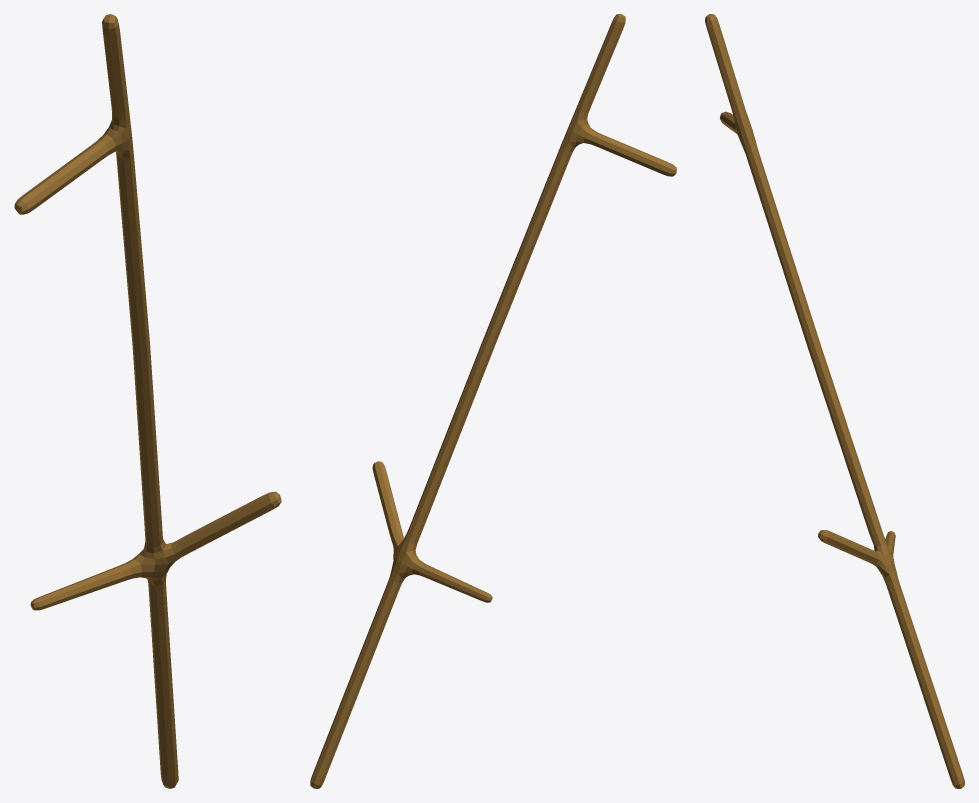
The model's file is Stick4.fbx.
3 renders of one model, left to right at view 1: azimuth 30°, elevation 25°; view 2: azimuth 150°, elevation 25°; view 3: azimuth 270°, elevation 25°, orthographic. The views are drawn at different scales.
Parts seen in each view (by area): view 1: Vert.001; view 2: Vert.001; view 3: Vert.001.
Boxes of the visible parts, x1,y1,x2,y2 form: Vert.001: (14,14,281,788); Vert.001: (310,14,676,788); Vert.001: (705,14,964,788).
Size of the model in its own units: 50.25 by 138 by 46.87.
